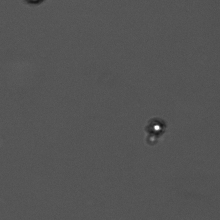Living Cell: (144, 116, 168, 138)
